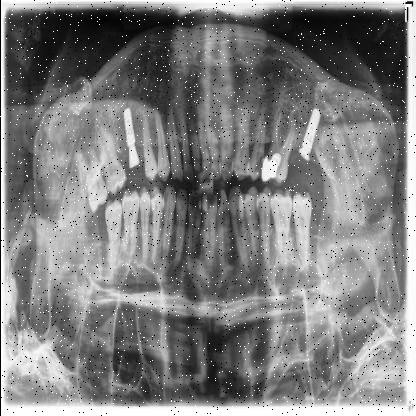ITI: (298, 100, 325, 154), (122, 102, 140, 153)
